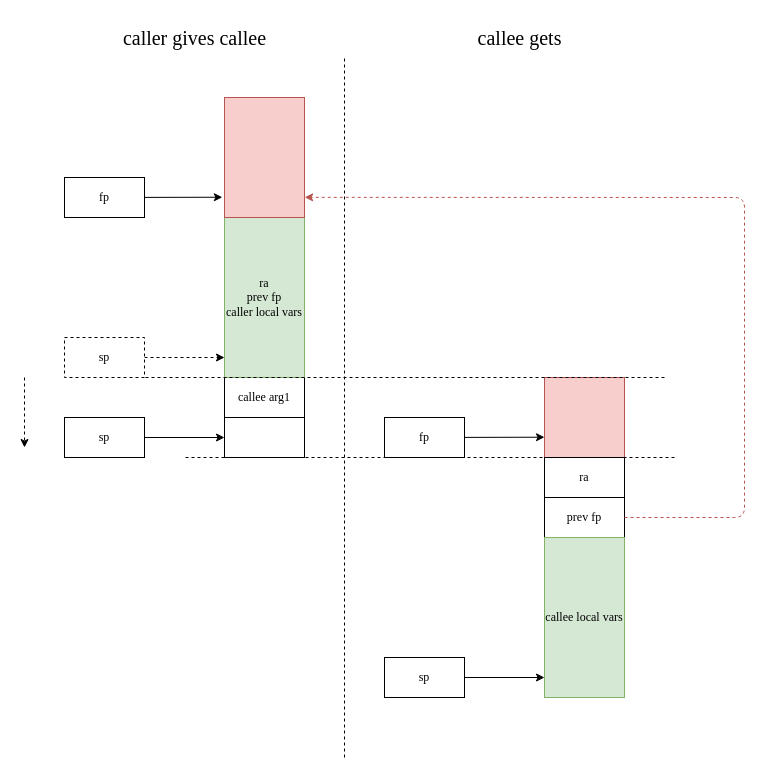
Some shapes in this 770 by 776 pixel diagram are drawn without their labels. The shapes that lost their labels are listed below. From the top down, each one's centre as x and y in pixels, then its label:
At point (264, 157): "caller args".
At point (264, 437): "callee arg0".
At point (584, 417): "callee args".
